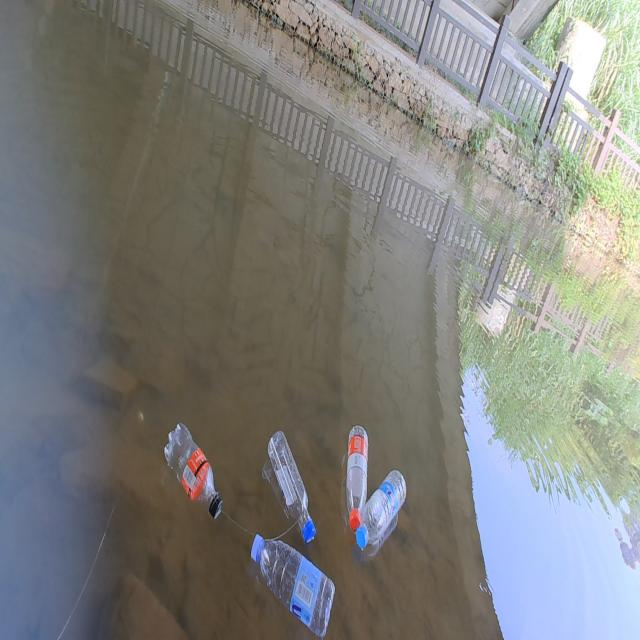Bottle: (247, 530, 335, 636), (162, 418, 225, 519), (268, 426, 318, 544), (356, 466, 408, 547), (344, 417, 369, 529)
